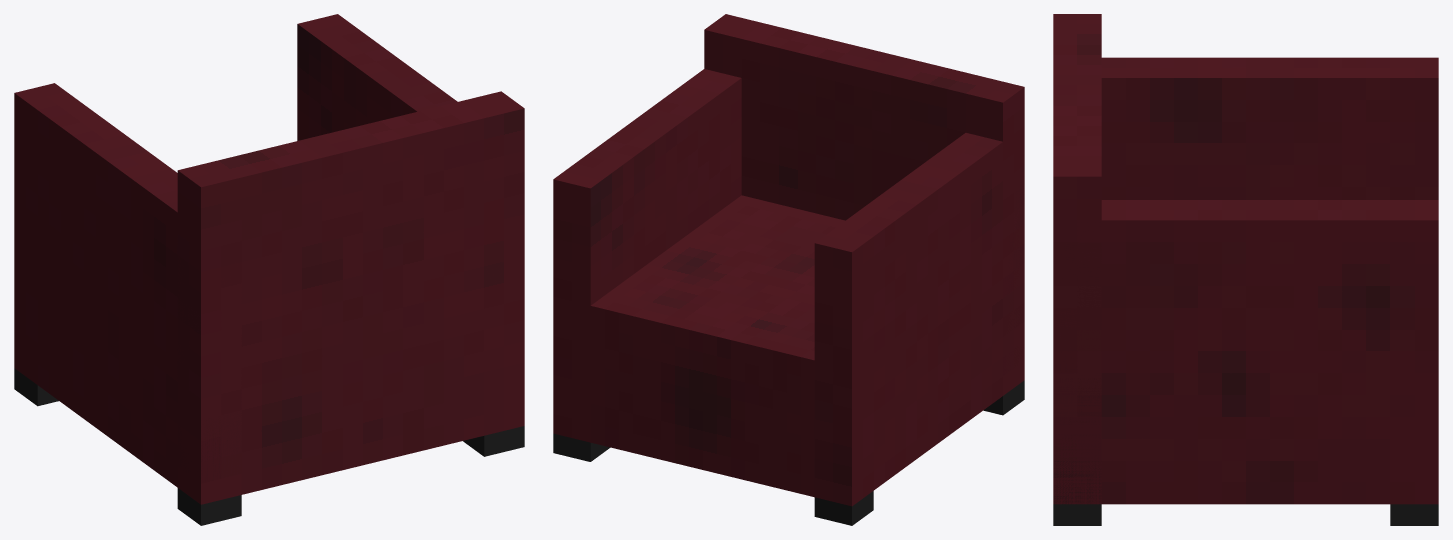
Rendered from armchair.obj.
The picture shows the model from 3 angles, left to right: view 1: azimuth 30°, elevation 25°; view 2: azimuth 150°, elevation 25°; view 3: azimuth 270°, elevation 25°; orthographic projection. The views are drawn at different scales.
Visible parts, largest first — view 1: cube; view 2: cube; view 3: cube.
Boxes of the visible parts, x1,y1,x2,y2 form: cube: (14,14,524,525); cube: (553,14,1024,525); cube: (1053,14,1438,525).
Bounding box in the file's own units: 1 × 1 × 1.
